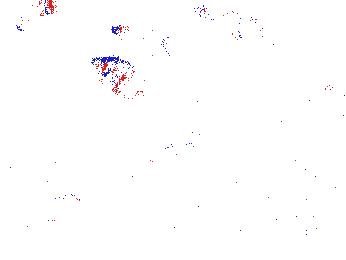X-ray fish: (90, 54, 162, 107)
glassfish: (106, 125, 211, 201)
red belly glassfish: (323, 83, 346, 102)
redtail glassfish: (111, 21, 179, 60), (195, 1, 266, 35), (14, 1, 52, 32)
